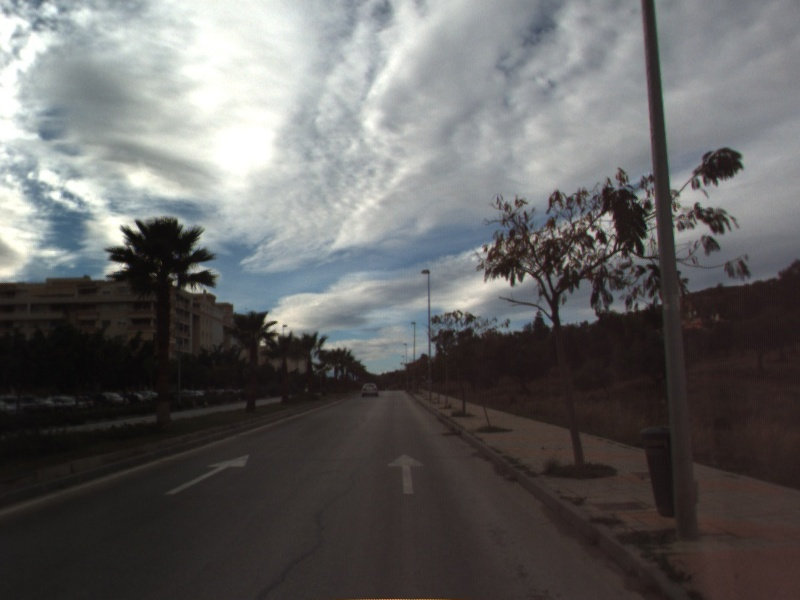STRAIGHT: (162, 453, 251, 496), (385, 452, 426, 496)
